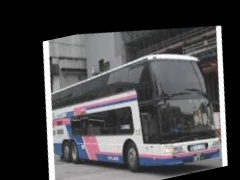bus: (33, 29, 235, 180)
